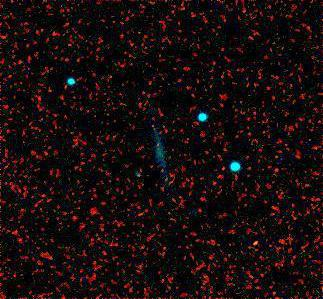star: (243, 230, 273, 260)
